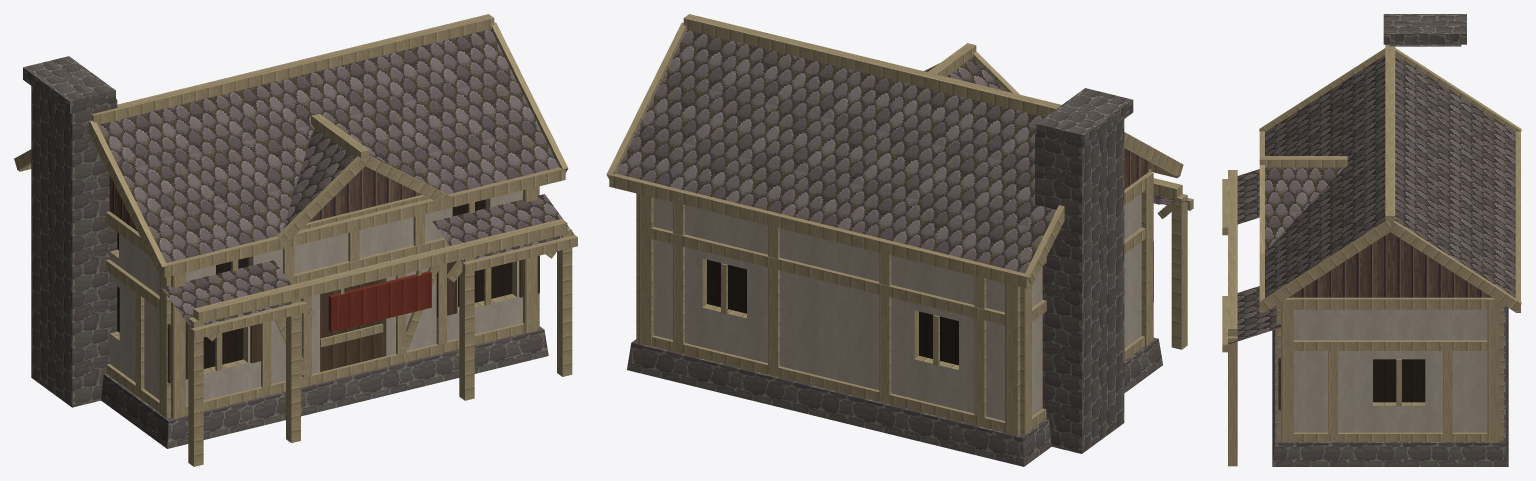
File: trading_post_stage2.glb
3 renders of one model, left to right at view 1: azimuth 30°, elevation 25°; view 2: azimuth 150°, elevation 25°; view 3: azimuth 270°, elevation 25°, orthographic. The views are drawn at different scales.
Parts seen in each view (by area): view 1: trading_post_stage2; view 2: trading_post_stage2; view 3: trading_post_stage2.
Boxes of the visible parts, x1=… form: trading_post_stage2: x1=14, y1=14, x2=577, y2=466; trading_post_stage2: x1=606, y1=14, x2=1193, y2=466; trading_post_stage2: x1=1222, y1=14, x2=1521, y2=466.
Bounding box in the file's own units: 7.99 × 5.52 × 5.47.
8 materials, 8 textured.
